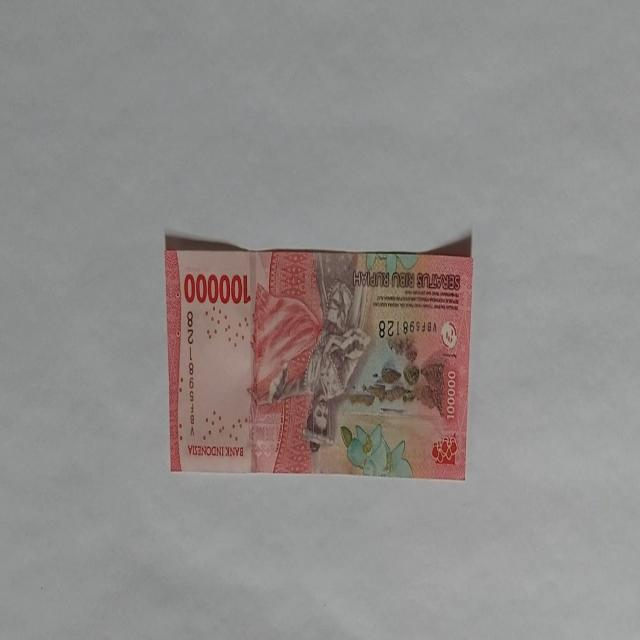seratus ribu rupiah: (164, 243, 474, 478)
